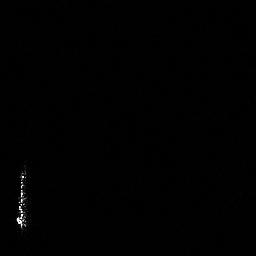ship: (13, 164, 33, 234)
